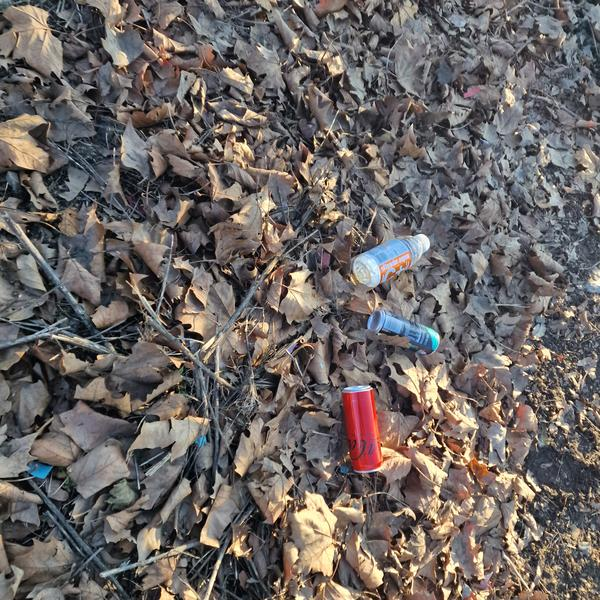can: (340, 383, 384, 476), (365, 306, 444, 356)
plastic_bottle: (348, 223, 437, 293)
